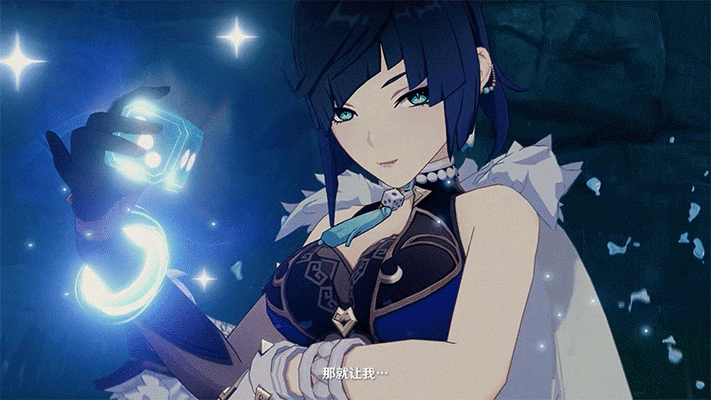夜兰: (42, 2, 556, 395)
